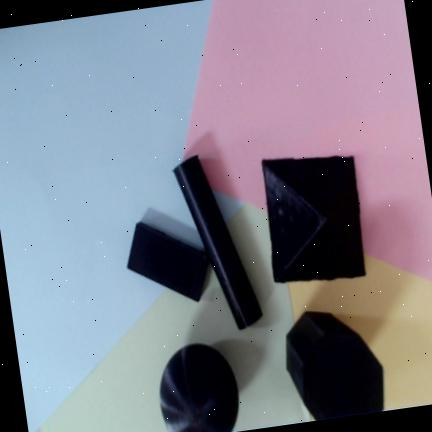Cilindro: (173, 152, 264, 331)
Esfera: (159, 343, 238, 432)
Paralelepipedo: (127, 220, 209, 303)
Piramide: (262, 154, 368, 281)
Prisma_hexagonal: (285, 310, 383, 419)
